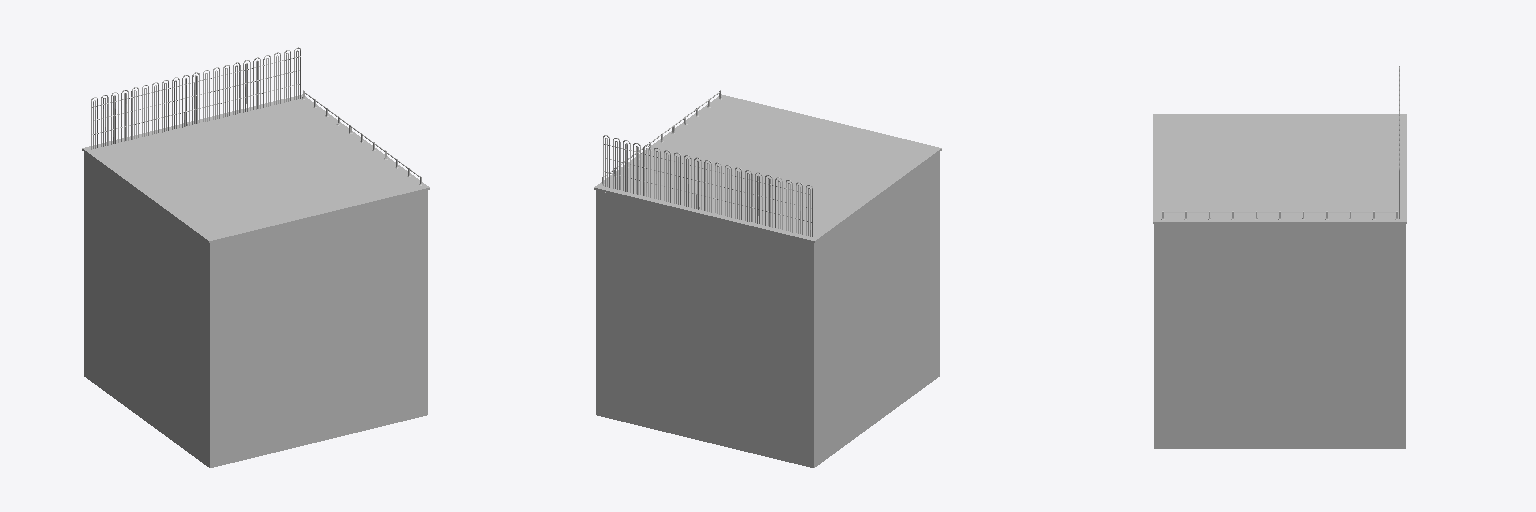
Rendered from Left Square Building with Rails.obj.
3 views of the same model, side by side, from view 1: azimuth 30°, elevation 25°; view 2: azimuth 150°, elevation 25°; view 3: azimuth 270°, elevation 25° (orthographic).
Parts seen in each view (by area): view 1: Building; view 2: Building; view 3: Building.
Part boxes in pixels (bbox=[...]): Building: bbox=[82, 94, 429, 467]; Building: bbox=[594, 94, 941, 467]; Building: bbox=[1153, 114, 1406, 448].
Bounding box in the file's own units: 10.87 × 13.17 × 10.87.